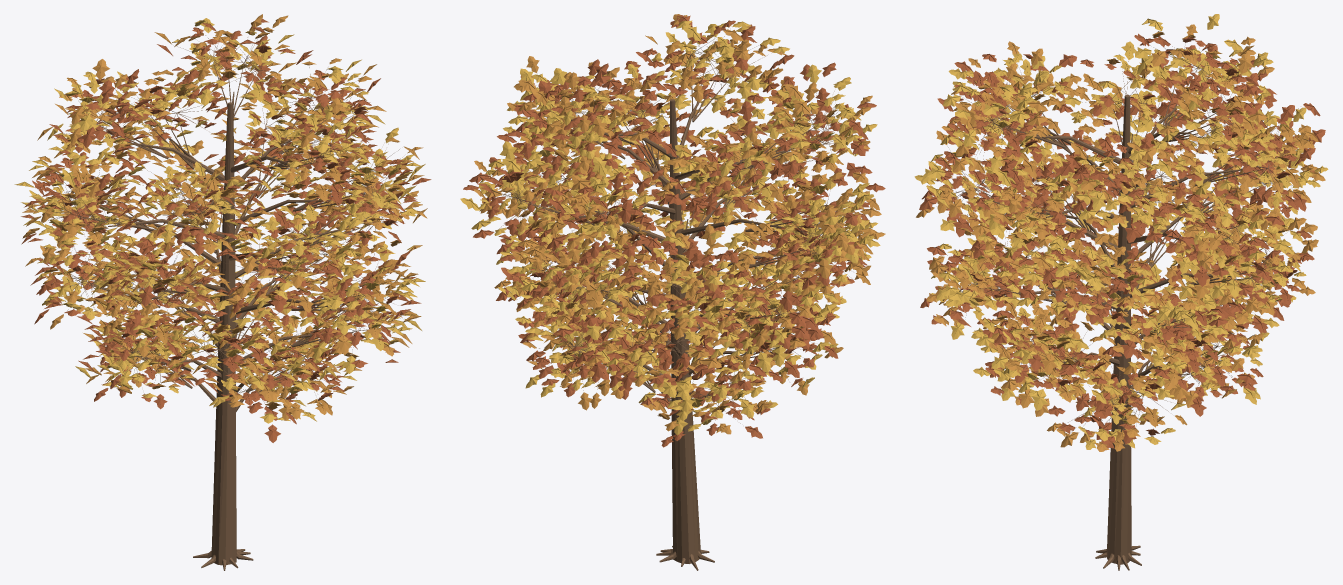
Rendered from maple-tree.glb.
3 renders of one model, left to right at view 1: azimuth 30°, elevation 25°; view 2: azimuth 150°, elevation 25°; view 3: azimuth 270°, elevation 25°, orthographic. The views are drawn at different scales.
Parts seen in each view (by area): view 1: catalog_surface_RealismUV; view 2: catalog_surface_RealismUV; view 3: catalog_surface_RealismUV.
Boxes of the visible parts, bbox=[...] form: catalog_surface_RealismUV: bbox=[14, 14, 431, 570]; catalog_surface_RealismUV: bbox=[460, 14, 885, 570]; catalog_surface_RealismUV: bbox=[914, 14, 1328, 570].
Size of the model in its own units: 3.5 by 4.3 by 3.2.
